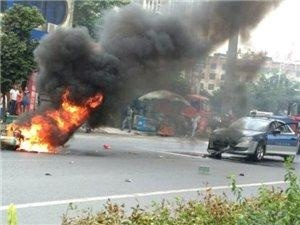fire: (8, 88, 104, 154)
